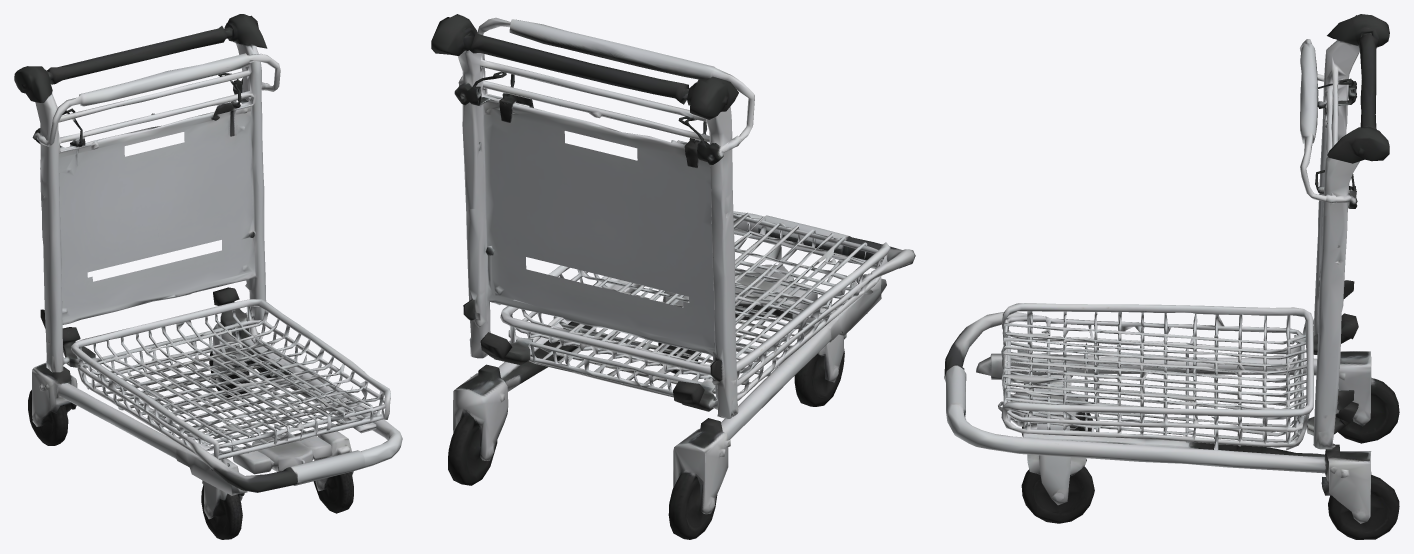
File: luggage-trolley.glb
The picture shows the model from 3 angles, left to right: view 1: azimuth 30°, elevation 25°; view 2: azimuth 150°, elevation 25°; view 3: azimuth 270°, elevation 25°; orthographic projection. The views are drawn at different scales.
Visible parts, largest first — view 1: tripo_node_01a217dc-1fb4-7b4f-8d54-b1964709e8c1; view 2: tripo_node_01a217dc-1fb4-7b4f-8d54-b1964709e8c1; view 3: tripo_node_01a217dc-1fb4-7b4f-8d54-b1964709e8c1.
Boxes of the visible parts, left/top/right/bottom form: tripo_node_01a217dc-1fb4-7b4f-8d54-b1964709e8c1: left=14, top=14, right=402, bottom=539; tripo_node_01a217dc-1fb4-7b4f-8d54-b1964709e8c1: left=431, top=14, right=915, bottom=539; tripo_node_01a217dc-1fb4-7b4f-8d54-b1964709e8c1: left=944, top=14, right=1399, bottom=539.
Size of the model in its own units: 0.6434 by 1 by 0.9799.
1 material, 1 textured.
